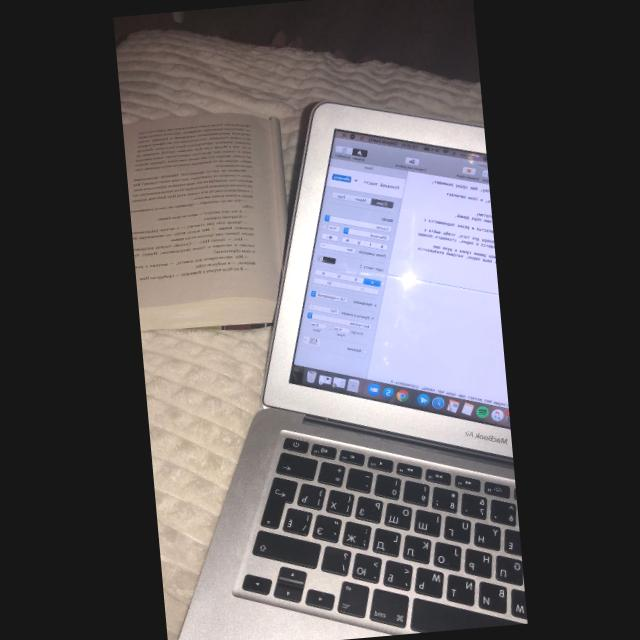laptop: (178, 102, 527, 640)
